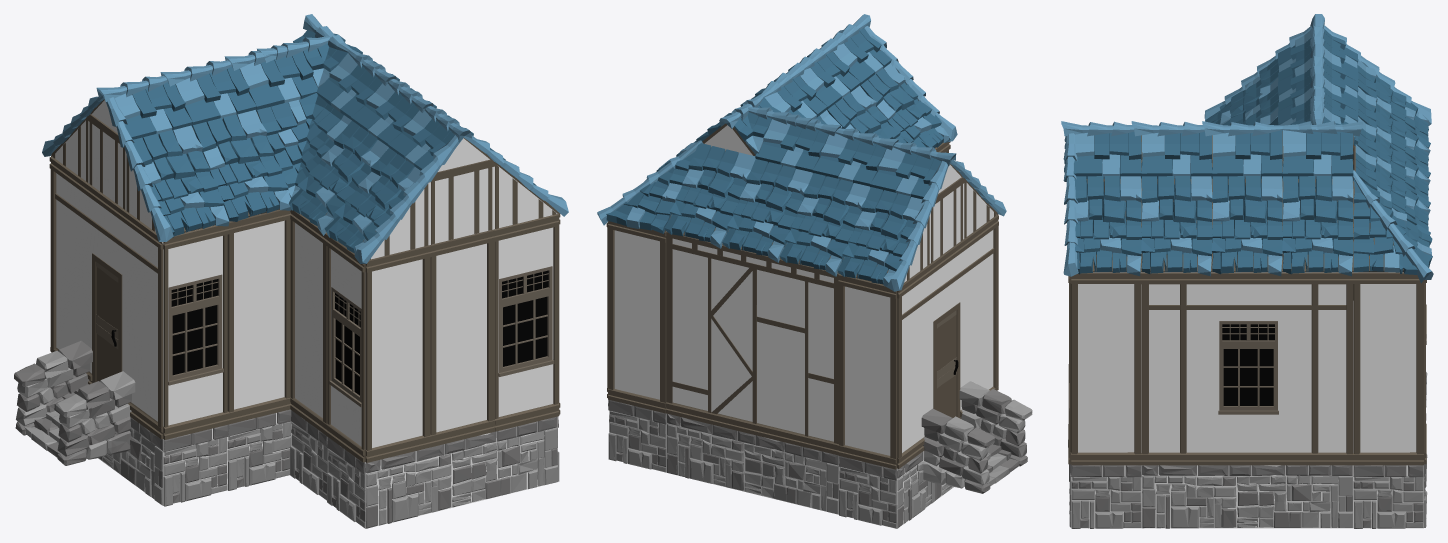
The model's file is house_11_full.fbx.
3 renders of one model, left to right at view 1: azimuth 30°, elevation 25°; view 2: azimuth 150°, elevation 25°; view 3: azimuth 270°, elevation 25°, orthographic. The views are drawn at different scales.
Parts seen in each view (by area): view 1: DOOR_05_2, WALL_03_8, WALL_03_7, WINDOW_04_5, WALL_03_10, WINDOW_04_3, FOUNDATION_02_16, STSAIRS_07_2, WINDOW_04_4, WALL_03_9, ROOF_base_4, ROOF_base_3 (+30 smaller); view 2: WALL_05_2, DOOR_05_2, WALL_03_4, WALL_03_3, FOUNDATION_02_18, STSAIRS_07_2, ROOF_base_14, ROOF_base_13, ROOF_base_12, ROOF_base_11, ROOF_corner_out_2, ROOF_base_6 (+23 smaller); view 3: WINDOW_03_2, WALL_03_6, WALL_03_5, FOUNDATION_02_17, ROOF_base_8, ROOF_base_10, ROOF_base_9, ROOF_base_7, ROOF_corner_out_2, FOUNDATION_03_13, FOUNDATION_03_12, ROOF_base_small_13 (+23 smaller).
Boxes of the visible parts, x1,y1,x2,y2 form: DOOR_05_2: (49, 156, 163, 439); WALL_03_8: (365, 245, 430, 462); WALL_03_7: (430, 229, 495, 447); WINDOW_04_5: (163, 225, 228, 439); WALL_03_10: (227, 209, 290, 424); WINDOW_04_3: (494, 214, 559, 431); FOUNDATION_02_16: (365, 416, 557, 528); STSAIRS_07_2: (14, 340, 135, 465); WINDOW_04_4: (325, 234, 365, 462); WALL_03_9: (290, 210, 327, 434); ROOF_base_4: (192, 110, 291, 221); ROOF_base_3: (132, 125, 229, 237); WALL_05_2: (665, 232, 838, 455); DOOR_05_2: (897, 215, 998, 468); WALL_03_4: (607, 221, 666, 413); WALL_03_3: (838, 274, 896, 469); FOUNDATION_02_18: (666, 413, 839, 514); STSAIRS_07_2: (921, 381, 1032, 493); ROOF_base_14: (664, 143, 755, 248); ROOF_base_13: (722, 159, 812, 262); ROOF_base_12: (779, 173, 870, 276); ROOF_base_11: (837, 187, 925, 289); ROOF_corner_out_2: (597, 140, 703, 233); ROOF_base_6: (860, 63, 949, 148); WINDOW_03_2: (1141, 272, 1353, 465); WALL_03_6: (1071, 272, 1141, 465); WALL_03_5: (1353, 272, 1423, 465); FOUNDATION_02_17: (1141, 465, 1353, 528); ROOF_base_8: (1141, 175, 1212, 276); ROOF_base_10: (1282, 175, 1353, 276); ROOF_base_9: (1211, 176, 1282, 276); ROOF_base_7: (1071, 174, 1141, 276); ROOF_corner_out_2: (1352, 170, 1433, 283); FOUNDATION_03_13: (1071, 465, 1141, 528); FOUNDATION_03_12: (1353, 465, 1423, 528); ROOF_base_small_13: (1282, 130, 1353, 178).
Bounding box in the file's own units: 629 × 565 × 528.
